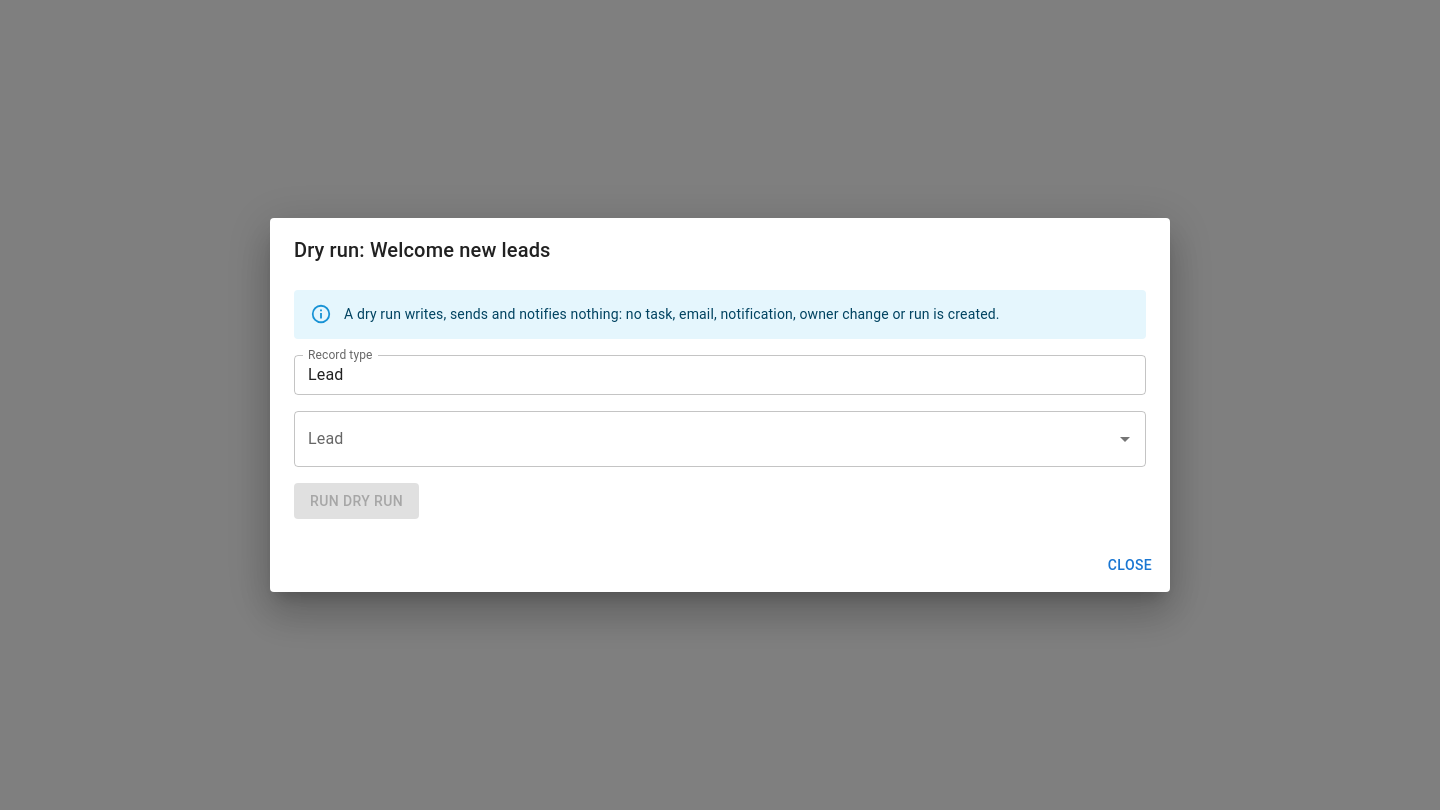
Test case: DryRunDialog › a 404 shows the error inline
The image size is (1440, 810).
Press the mouse on the dropdown labelled "Lead" at (705, 438), box [303,420,1107,458]
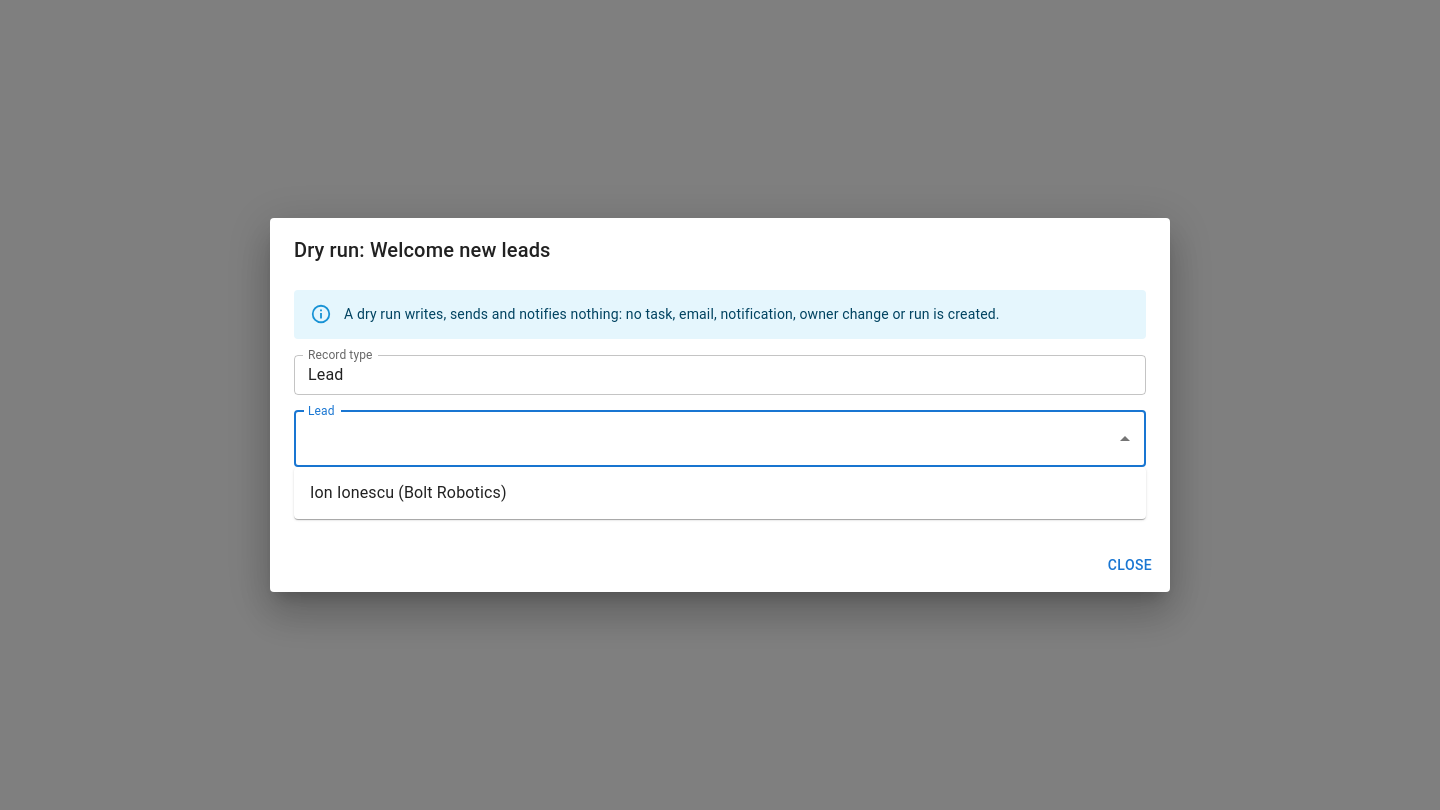
Click the option "Ion Ionescu (Bolt Robotics)".
click(408, 492)  # box [310,483,507,502]
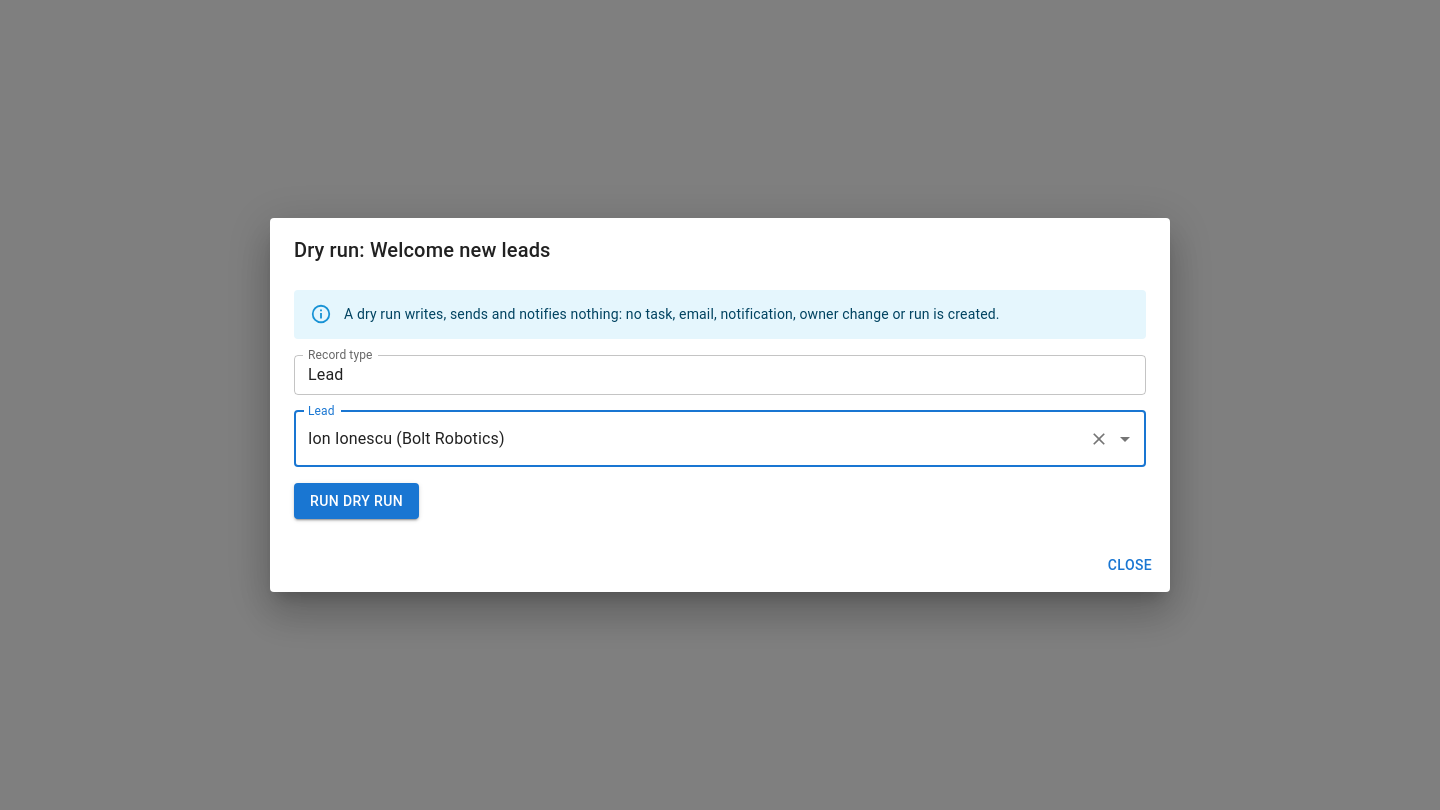
Expected: the dropdown labelled "Lead" holds "Ion Ionescu (Bolt Robotics)", [303,420,1081,458]
Click the button "Run dry run".
click(357, 501)  # box [294,482,419,519]
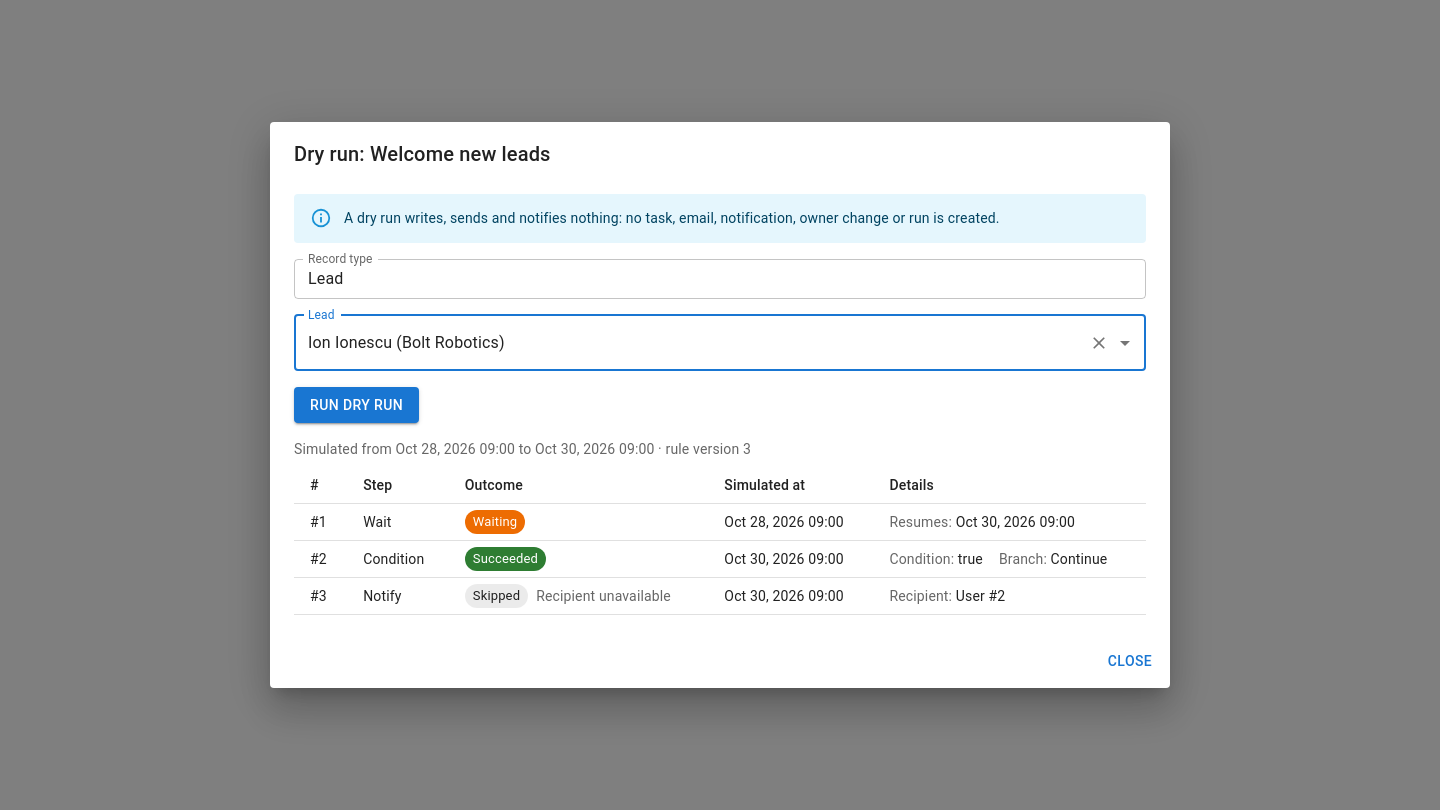
Expected: the number of rows with test id "dry-run-step" is 3, [294,504,1146,540]; [294,540,1146,578]; [294,578,1146,614]
Click the button "Run dry run".
click(357, 405)  # box [294,386,419,423]
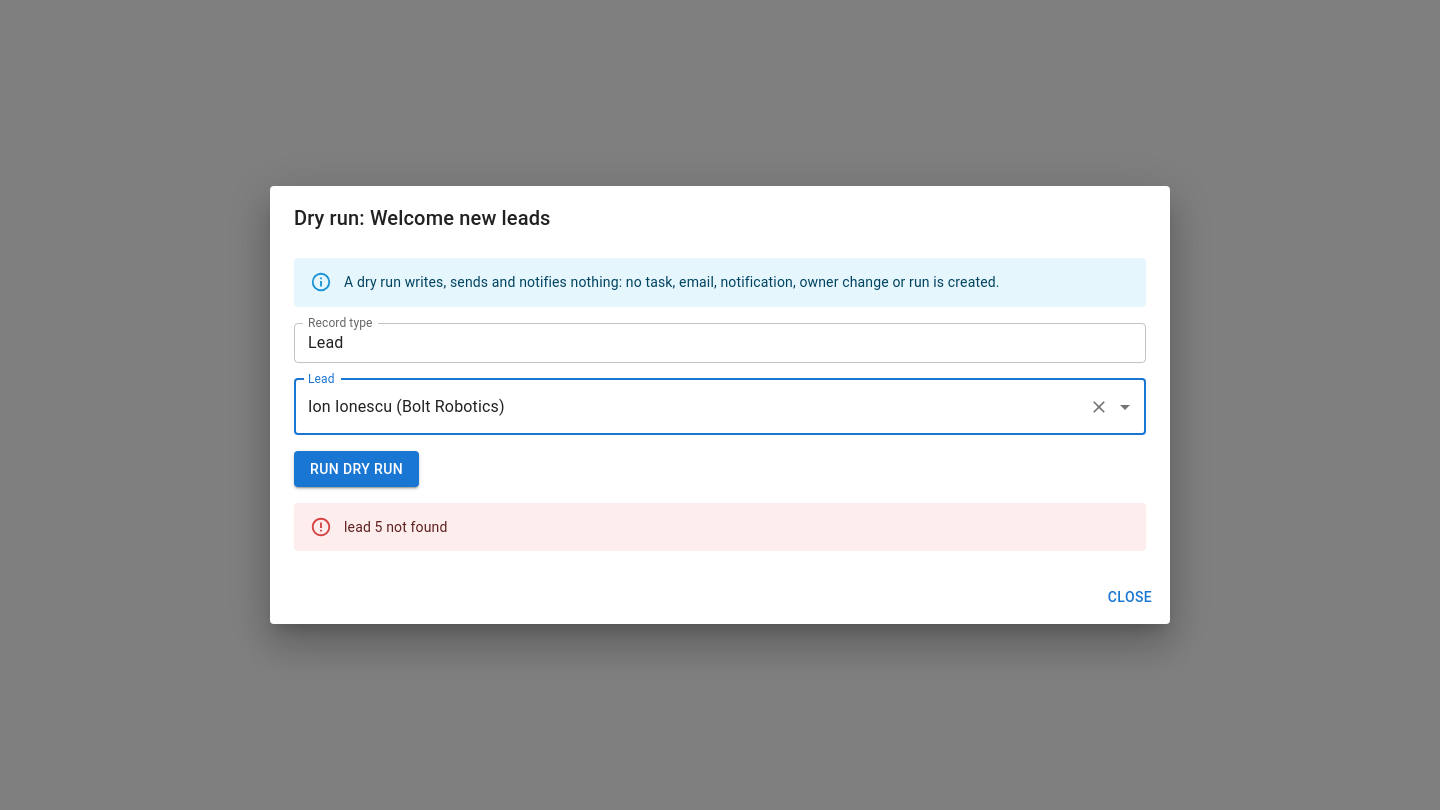
Expected: the message with test id "dry-run-error" reads "lead 5 not found", [344,519,448,535]
Expected: no rows with test id "dry-run-step" are shown
